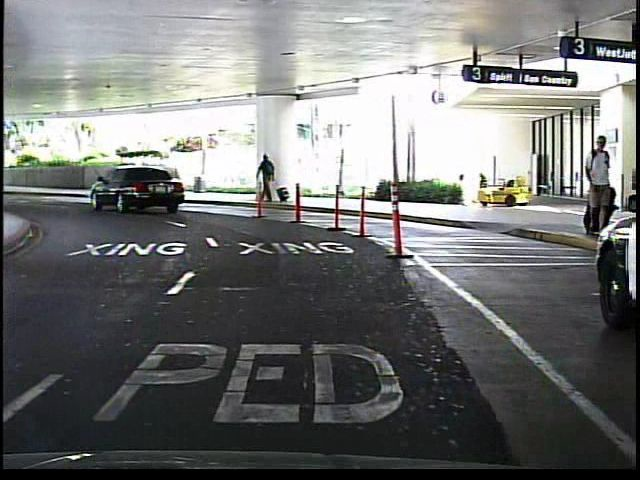person: (579, 130, 617, 244), (256, 151, 281, 207)
